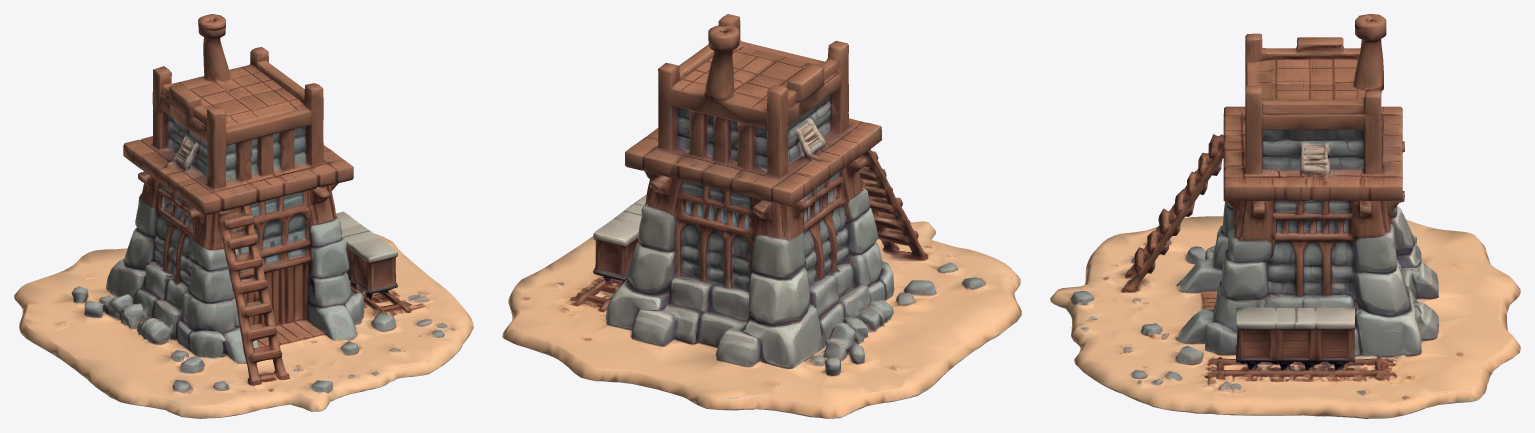
File: tertiary.glb
3 renders of one model, left to right at view 1: azimuth 30°, elevation 25°; view 2: azimuth 150°, elevation 25°; view 3: azimuth 270°, elevation 25°, orthographic. The views are drawn at different scales.
Visible parts, largest first — view 1: Mesh_0; view 2: Mesh_0; view 3: Mesh_0.
Boxes of the visible parts, <box> form: Mesh_0: <box>14,14,473,418</box>; Mesh_0: <box>502,14,1021,418</box>; Mesh_0: <box>1050,14,1520,418</box>.
Bounding box in the file's own units: 1.89 × 1.35 × 1.91.
1 material, 1 textured.
